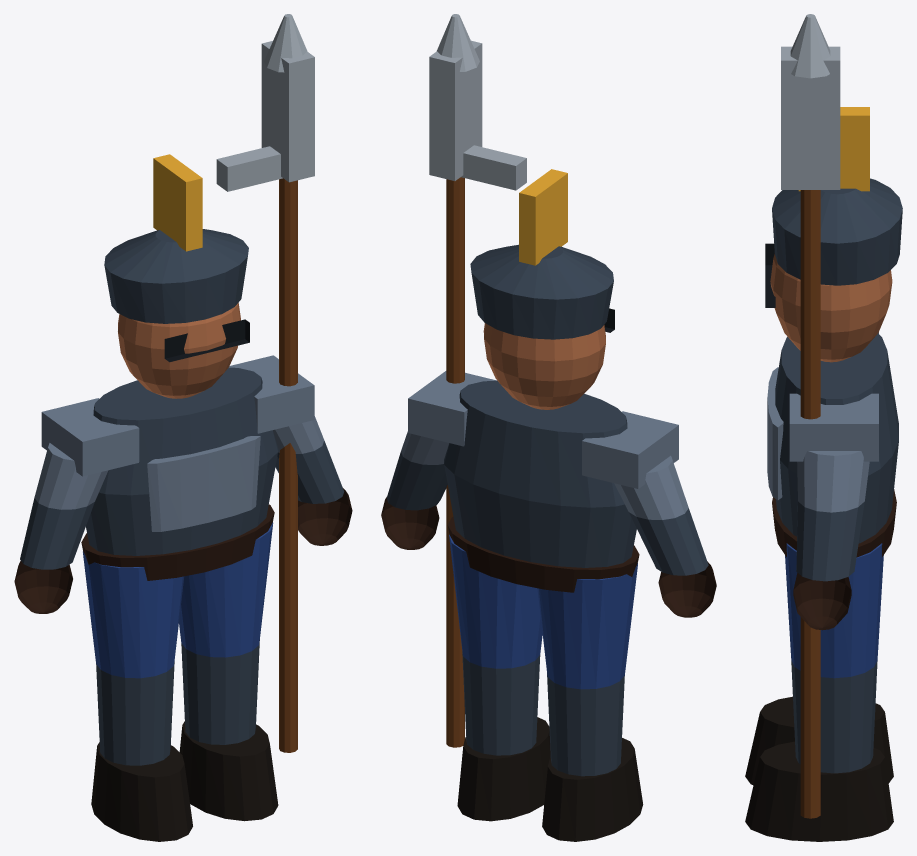
Rendered from LibreViesGuard.obj.
3 views of the same model, side by side, from view 1: azimuth 30°, elevation 25°; view 2: azimuth 150°, elevation 25°; view 3: azimuth 270°, elevation 25° (orthographic). The views are drawn at different scales.
Parts seen in each view (by area): view 1: Guard_Torso, Guard_Helmet, Guard_HalberdShaft, Guard_LegUpper_L, Guard_ChestPlate, Guard_LegUpper_R, Guard_Boot_L, Guard_Head, Guard_Boot_R, Guard_LegLower_R, Guard_LegLower_L, Guard_HalberdBlade (+13 smaller); view 2: Guard_Torso, Guard_Helmet, Guard_LegUpper_L, Guard_LegUpper_R, Guard_Head, Guard_HalberdShaft, Guard_Boot_L, Guard_LegLower_R, Guard_LegLower_L, Guard_Boot_R, Guard_HalberdBlade, Guard_Shoulder_L (+11 smaller); view 3: Guard_Boot_R, Guard_Torso, Guard_Helmet, Guard_HalberdShaft, Guard_HalberdBlade, Guard_Head, Guard_LegUpper_R, Guard_LegLower_R, Guard_Shoulder_R, Guard_ArmLower_R, Guard_ArmUpper_R, Guard_Boot_L (+6 smaller).
Part boxes in pixels (x1,y1,x2,y2): Guard_Torso: (86, 367, 278, 555); Guard_Helmet: (104, 229, 248, 323); Guard_HalberdShaft: (279, 178, 297, 752); Guard_LegUpper_L: (83, 551, 184, 678); Guard_ChestPlate: (147, 436, 260, 531); Guard_LegUpper_R: (179, 522, 273, 657); Guard_Boot_L: (91, 742, 192, 841); Guard_Head: (118, 303, 240, 398); Guard_Boot_R: (179, 721, 278, 821); Guard_LegLower_R: (181, 639, 259, 744); Guard_LegLower_L: (96, 661, 174, 765); Guard_HalberdBlade: (261, 41, 314, 182); Guard_Torso: (444, 380, 636, 567); Guard_Helmet: (470, 244, 613, 339); Guard_LegUpper_L: (537, 563, 637, 689); Guard_LegUpper_R: (449, 534, 542, 668); Guard_Head: (483, 323, 605, 409); Guard_HalberdShaft: (446, 177, 464, 747); Guard_Boot_L: (542, 738, 643, 841); Guard_LegLower_R: (462, 652, 540, 755); Guard_LegLower_L: (547, 673, 624, 776); Guard_Boot_R: (457, 717, 550, 821); Guard_HalberdBlade: (429, 40, 482, 180); Guard_Shoulder_L: (582, 411, 678, 488); Guard_Boot_R: (745, 741, 893, 841); Guard_Torso: (775, 333, 898, 543); Guard_Helmet: (772, 178, 902, 285); Guard_HalberdShaft: (800, 190, 820, 818); Guard_HalberdBlade: (781, 46, 840, 189); Guard_Head: (770, 254, 892, 362); Guard_LegUpper_R: (785, 543, 883, 678); Guard_LegLower_R: (791, 660, 877, 773); Guard_Shoulder_R: (789, 393, 878, 461); Guard_ArmLower_R: (796, 501, 864, 581); Guard_ArmUpper_R: (797, 451, 869, 512); Guard_Boot_L: (745, 696, 893, 785).
Size of the model in its own units: 1.4 by 3.1 by 0.53.
